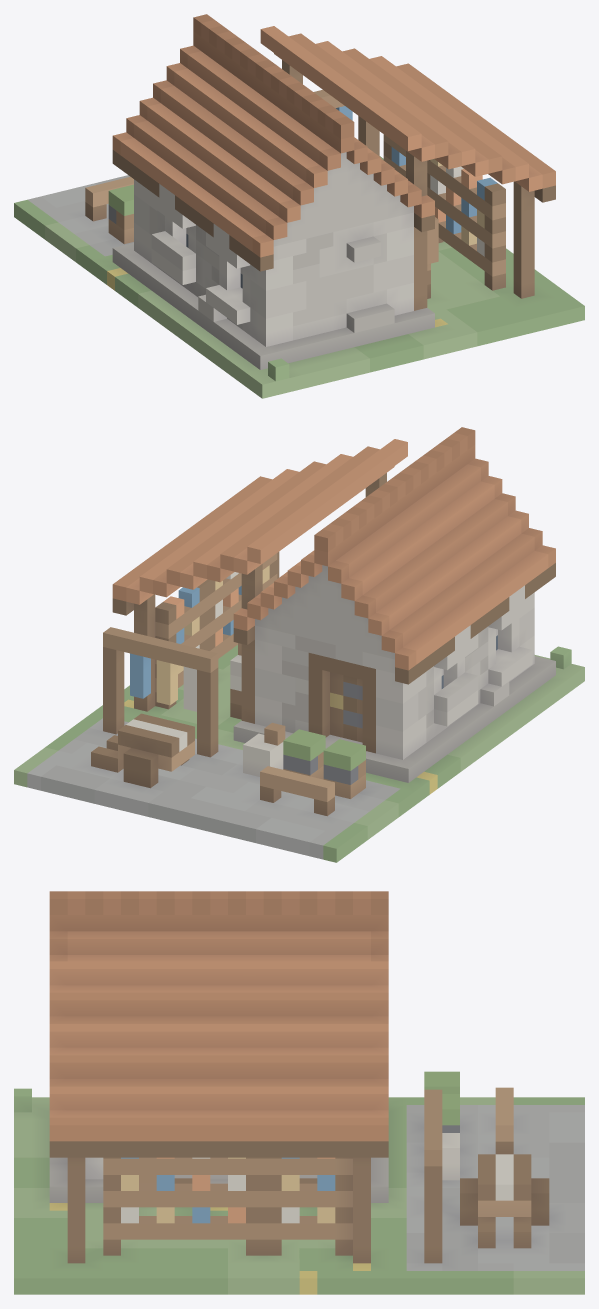
The model's file is thread_spinner.glb.
3 renders of one model, top to bottom at view 1: azimuth 30°, elevation 25°; view 2: azimuth 150°, elevation 25°; view 3: azimuth 270°, elevation 25°, orthographic. The views are drawn at different scales.
Visible parts, largest first — view 1: thread_spinner; view 2: thread_spinner; view 3: thread_spinner.
Boxes of the visible parts, box(x1,y1,x2,y2) form: thread_spinner: box(14, 14, 584, 398); thread_spinner: box(14, 427, 584, 862); thread_spinner: box(14, 891, 584, 1294).
Bounding box in the file's own units: 3 × 2.12 × 4.
